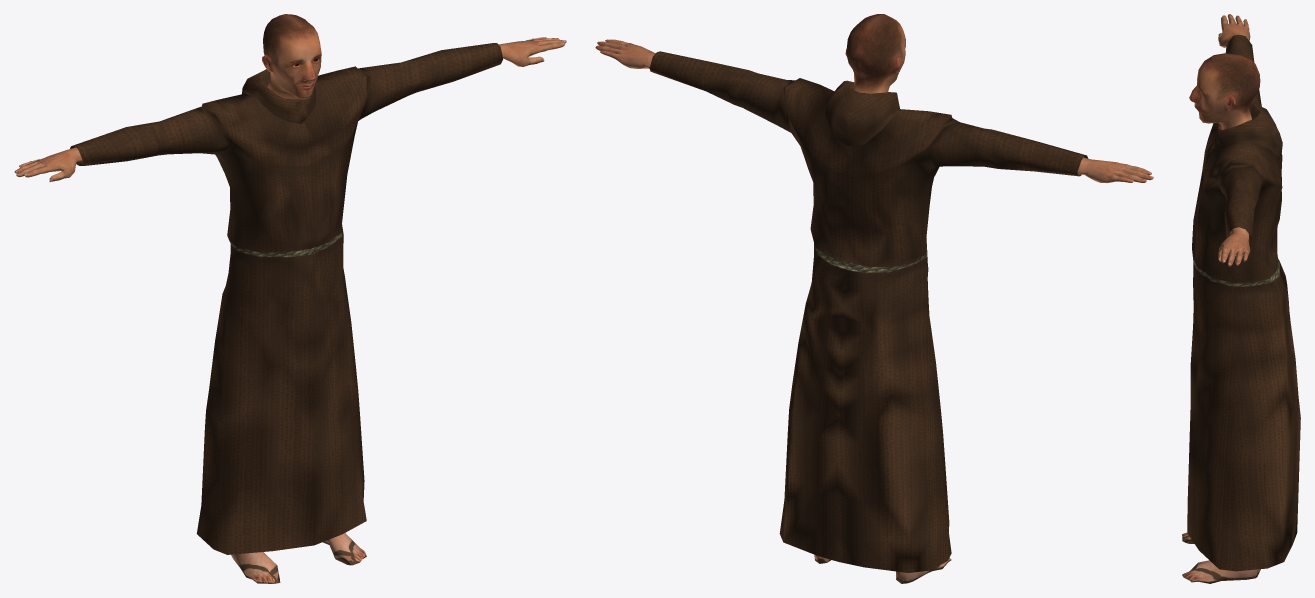
Rendered from Beato.fbx.
The picture shows the model from 3 angles, left to right: view 1: azimuth 30°, elevation 25°; view 2: azimuth 150°, elevation 25°; view 3: azimuth 270°, elevation 25°; orthographic projection. The views are drawn at different scales.
Parts seen in each view (by area): view 1: Corpo; view 2: Corpo; view 3: Corpo.
Boxes of the visible parts, left/top/right/bottom form: Corpo: left=14, top=14, right=566, bottom=583; Corpo: left=595, top=14, right=1153, bottom=583; Corpo: left=1182, top=14, right=1300, bottom=583.
Size of the model in its own units: 182 by 171 by 36.48.
Materials: 2 (2 with a texture image).
